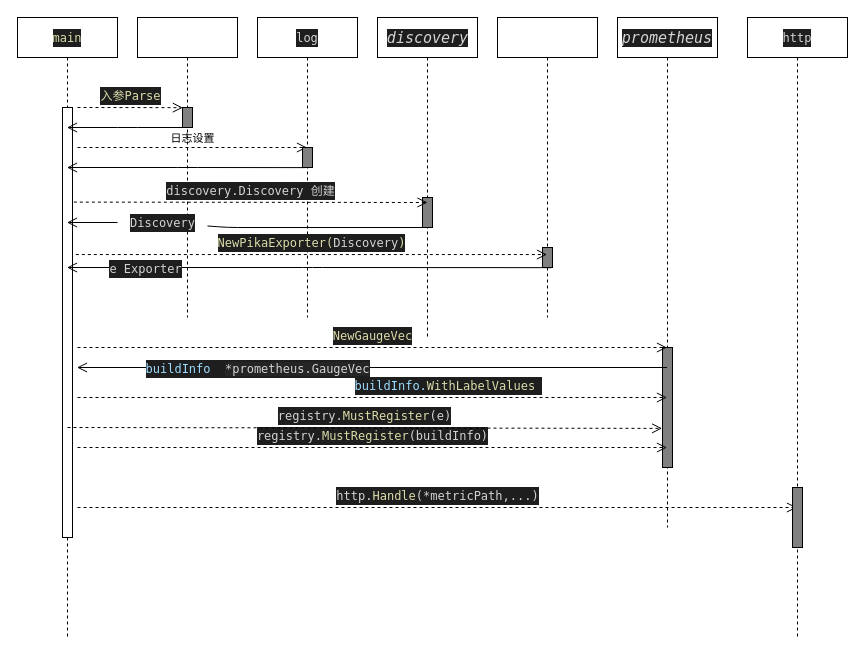
Some shapes in this 865 by 655 pixel diagram are drawn without their labels. Here are the shapes that lost their labels. From the top down, the box of each, then its label:
(136, 16, 238, 318): flag
(496, 16, 598, 318): exporter
